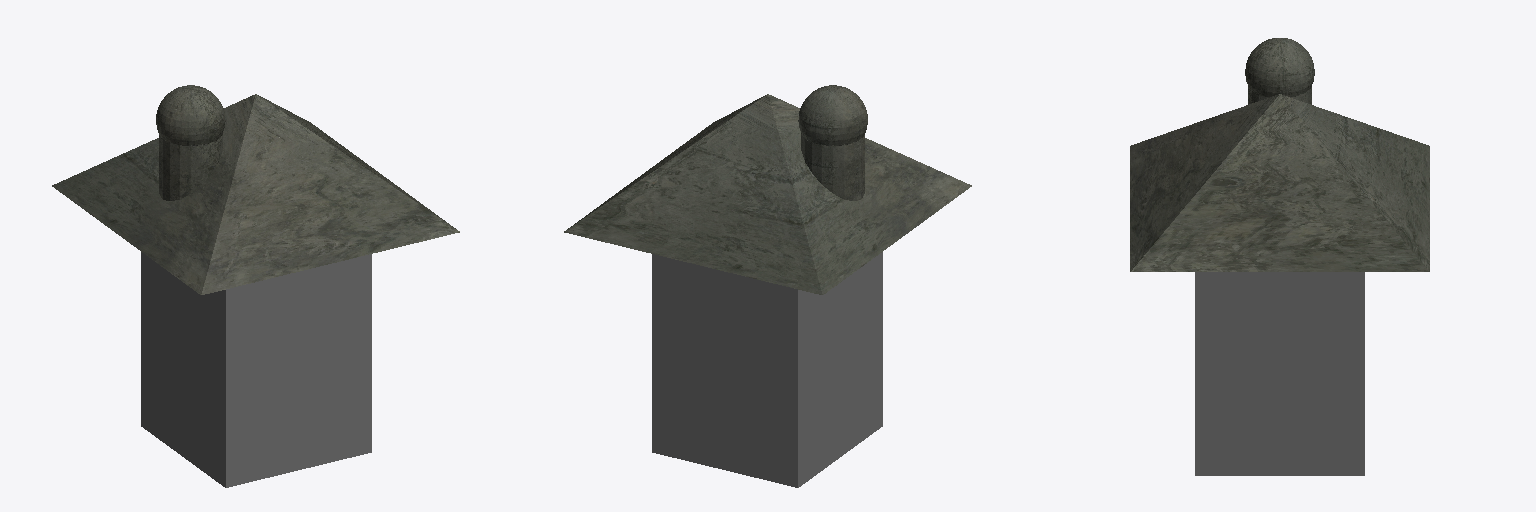
The picture shows the model from 3 angles: view 1: azimuth 30°, elevation 25°; view 2: azimuth 150°, elevation 25°; view 3: azimuth 270°, elevation 25°; orthographic projection.
Visible parts, largest first — view 1: Roof, Walls; view 2: Roof, Walls; view 3: Roof, Walls.
Part boxes in pixels (x1,y1,x2,y2): Roof: (52,85,459,294); Walls: (141,252,371,487); Roof: (564,85,971,294); Walls: (652,252,882,487); Roof: (1130,38,1429,271); Walls: (1195,272,1364,475).
Size of the model in its own units: 139 by 188 by 139.
Materials: 2 (1 with a texture image).